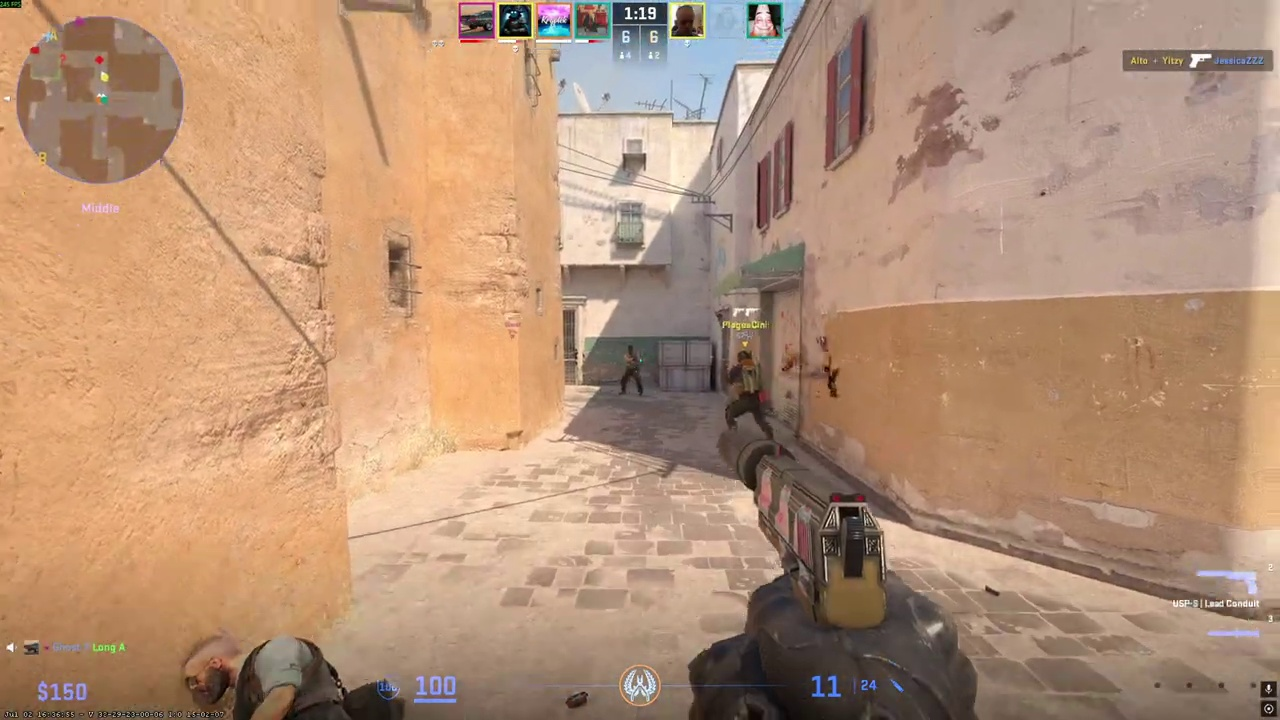CT: (722, 350, 773, 438)
Terrorist: (619, 345, 644, 396)
